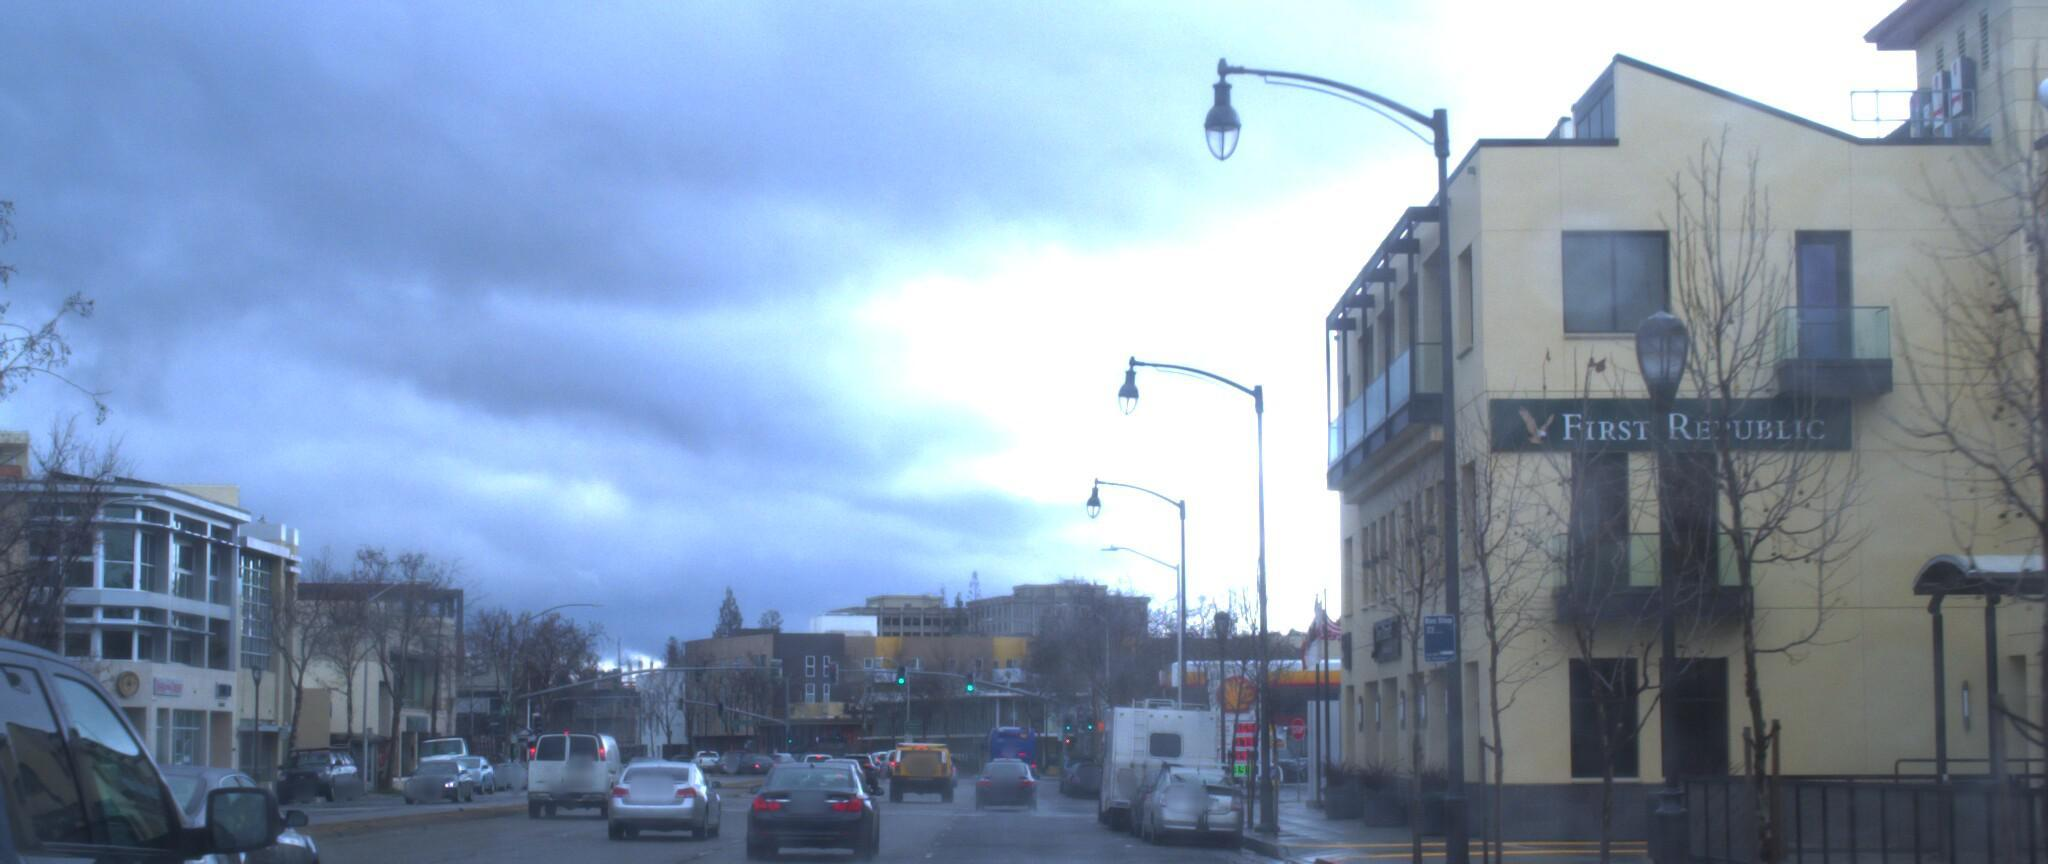car: (752, 749, 891, 859), (593, 740, 729, 831), (539, 720, 649, 818), (1143, 737, 1243, 827)
other_vehicle: (1087, 677, 1228, 809)
